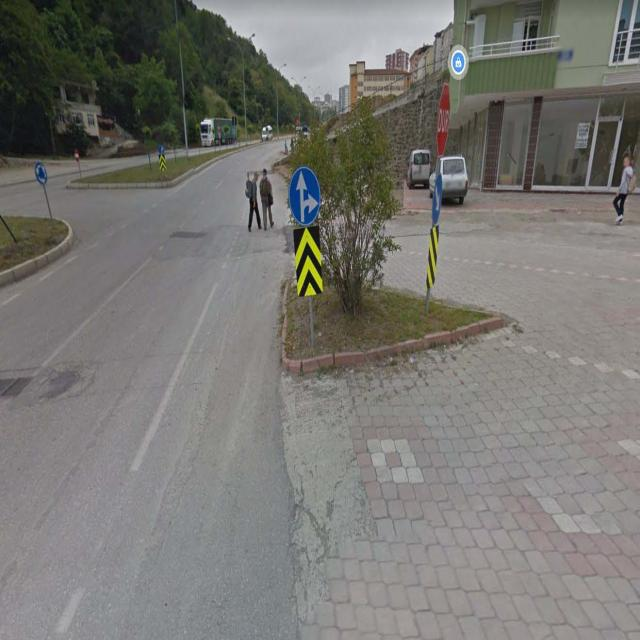ilerisag: (288, 167, 321, 226)
